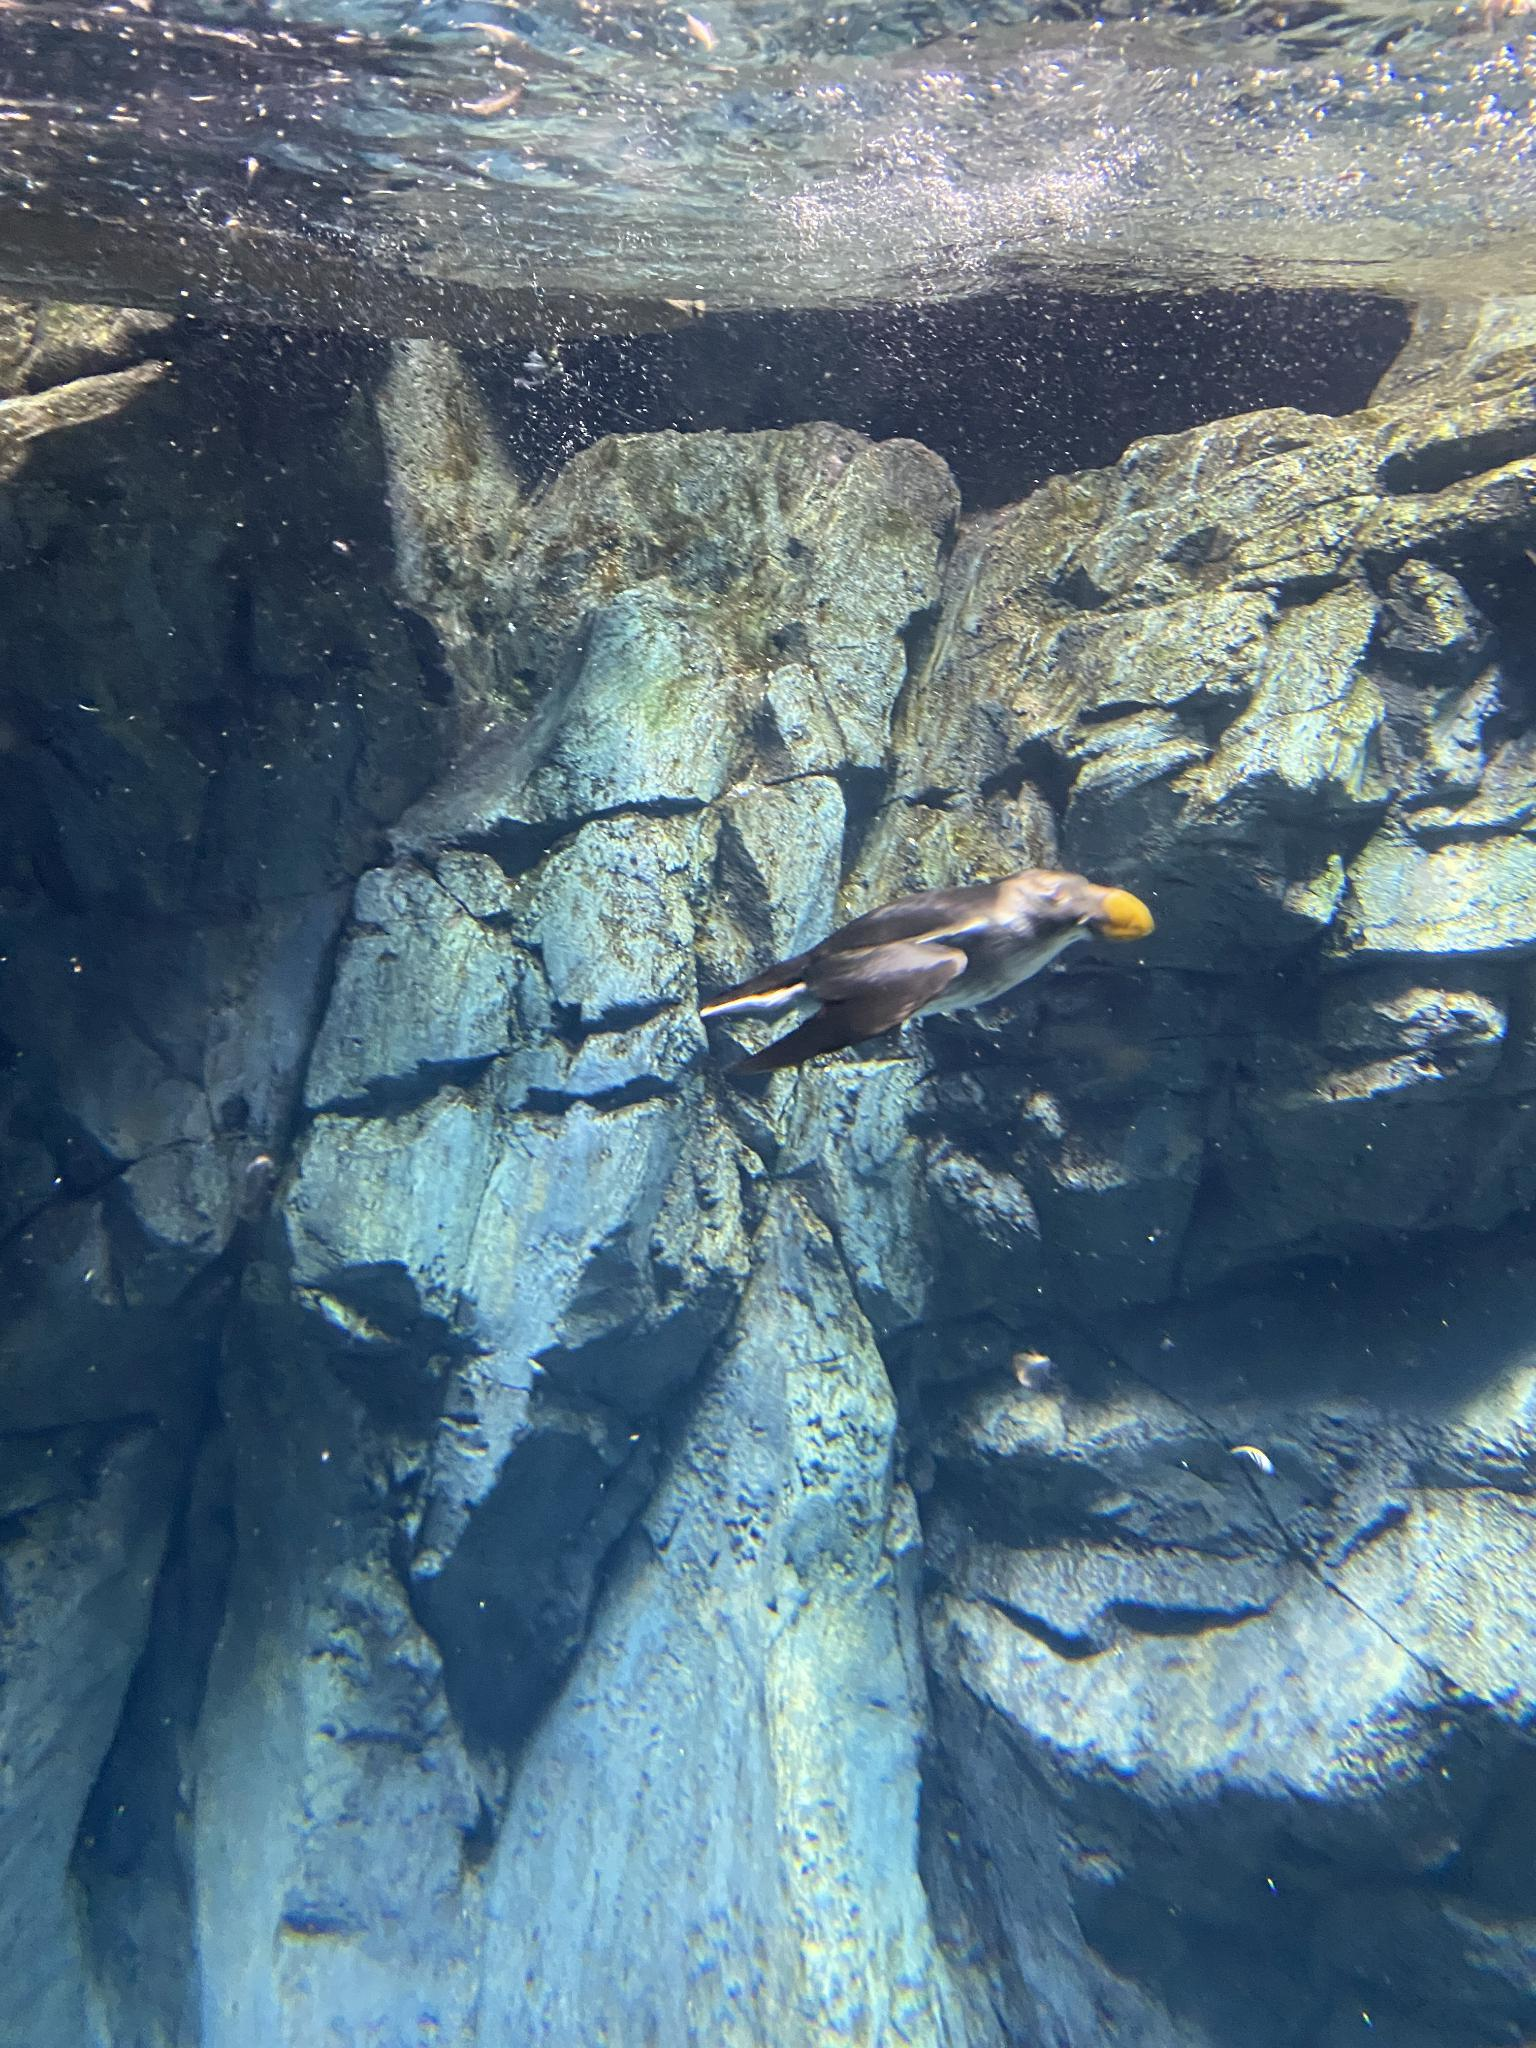puffin: (691, 861, 1155, 1066)
